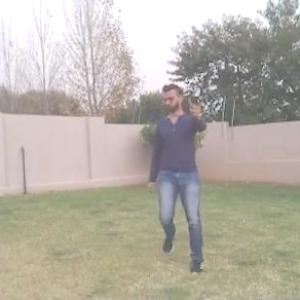takeoff-hand: (184, 92, 212, 122)
